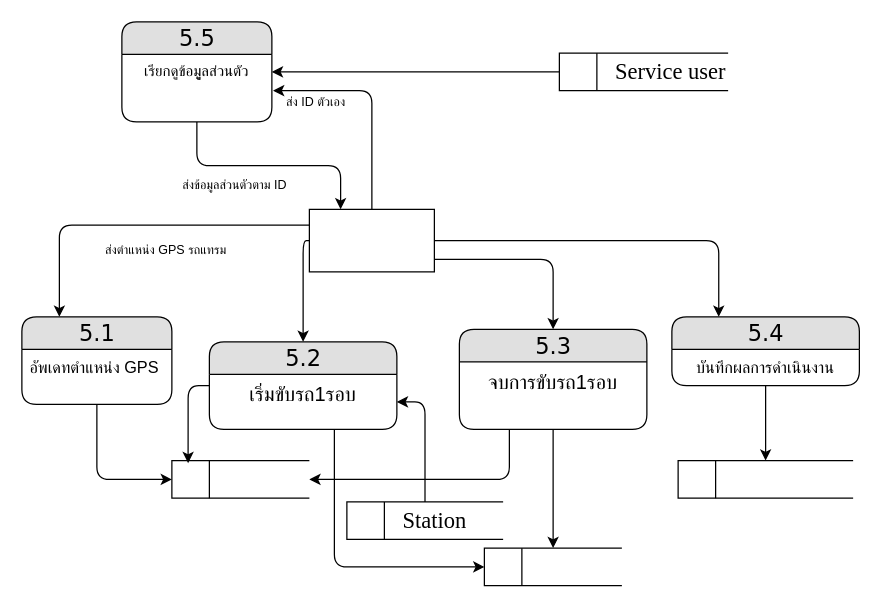
This 881x608 diagram has some shape labels left out. Each missing label, with the centre of its shape:
driver: the point at 371,240
Log service: the point at 765,478
One day: the point at 552,566
Tram: the point at 240,478
